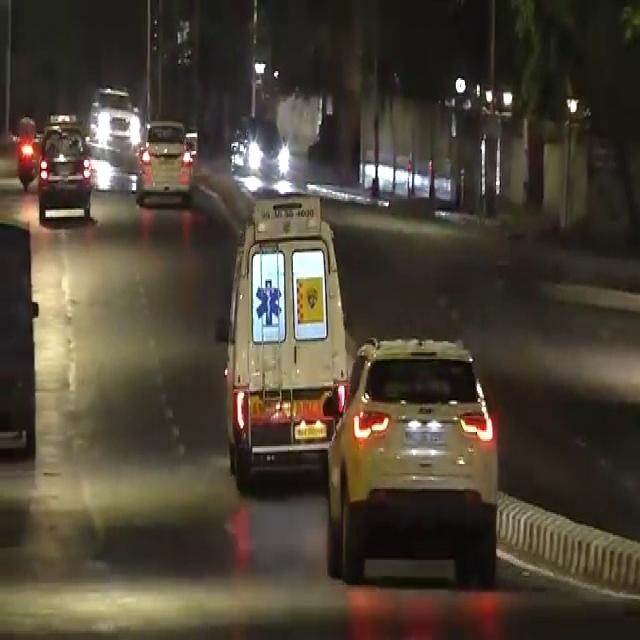ambulance: (214, 200, 345, 456)
